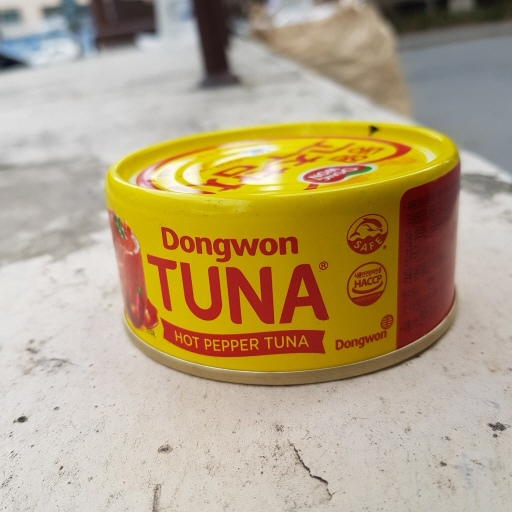Metal_1: (100, 120, 470, 388)
